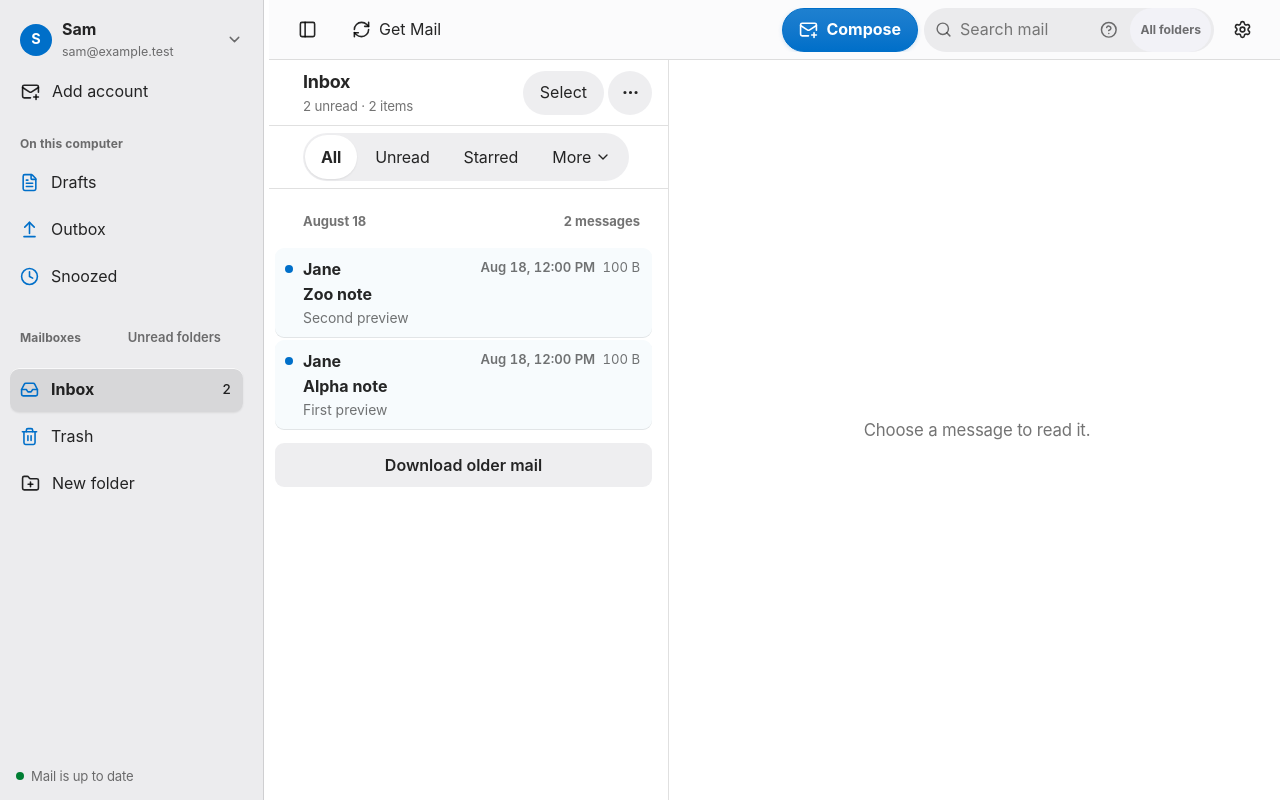
Test: mail shell › lists subjects from Z to A and can return to A to Z
Expected: the option "Jane Aug 18, 12:00 PM 100 B Alpha note First preview" is shown, [275,340,652,430]
What coordinates should you click on to do the following:
click the button named "More mailbox actions"
I would click on:
 (630, 93)
Its box is [608,71,652,115].
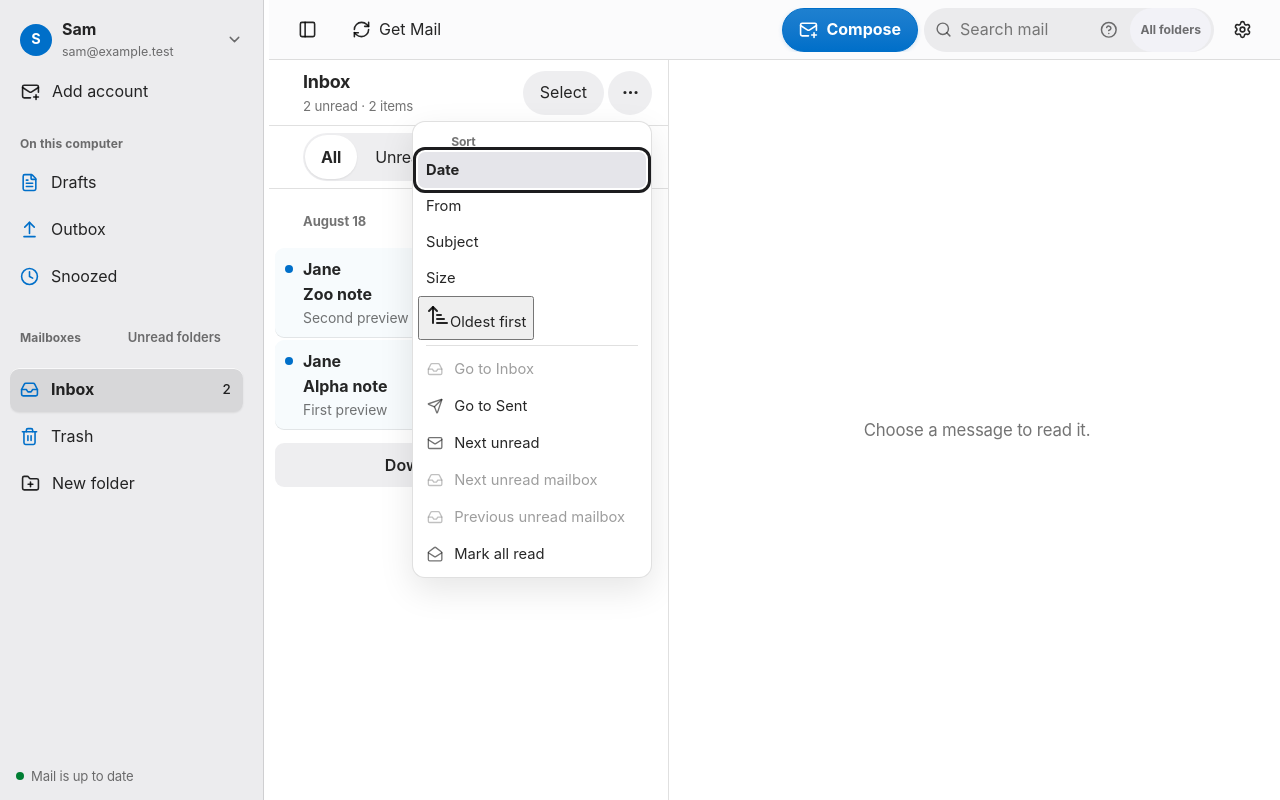
What coordinates should you click on to do the following:
click the menu item "Subject"
I would click on:
 (532, 242)
Its box is [418,224,646,260].
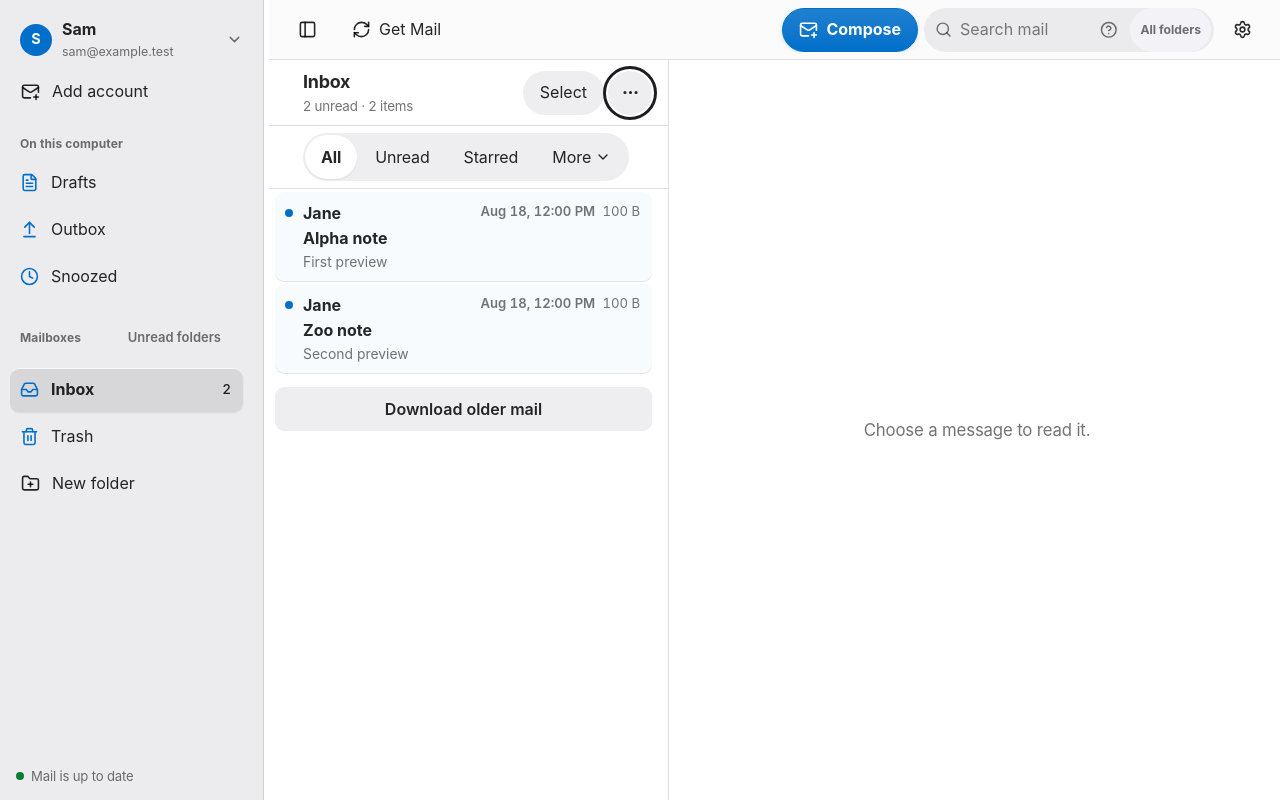
What coordinates should you click on to do the following:
click the button named "More mailbox actions"
I would click on:
 (630, 93)
Its box is [608,71,652,115].
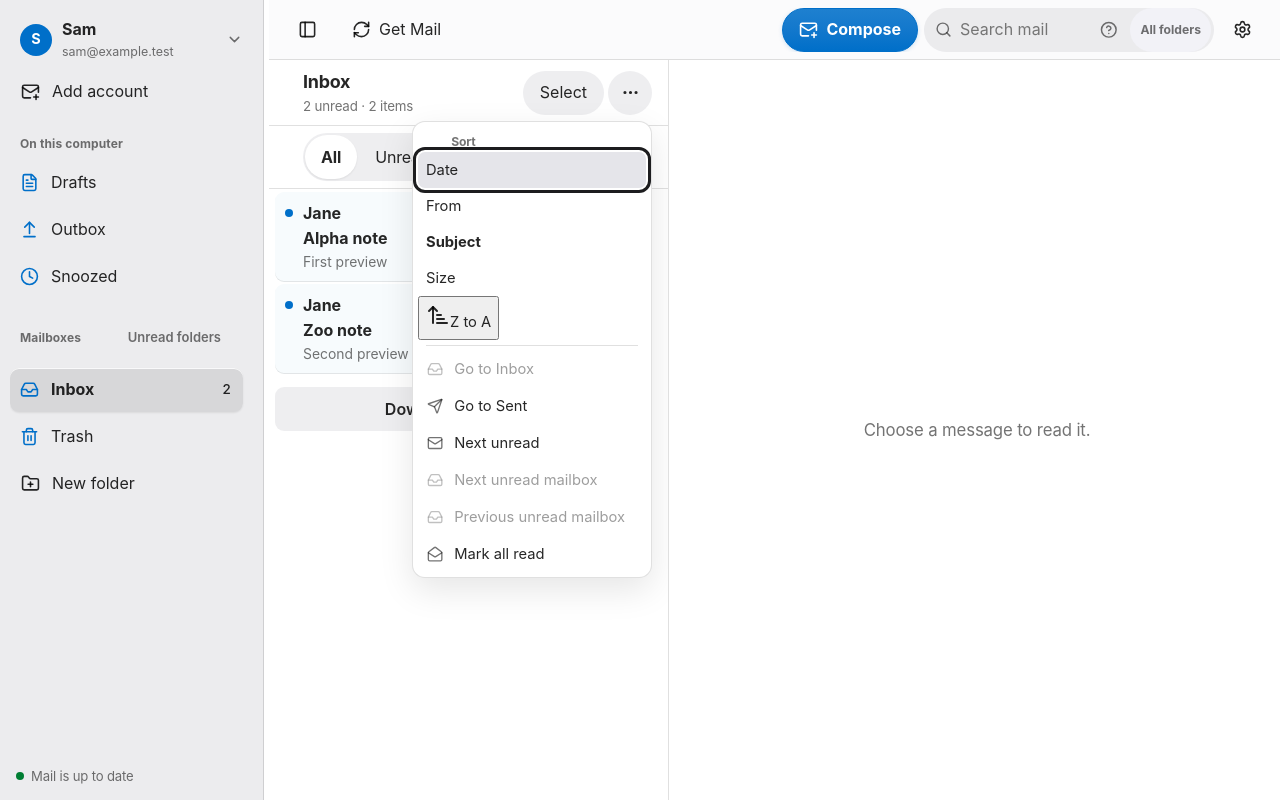
What coordinates should you click on to do the following:
click the menu item "Z to A"
I would click on:
 (459, 318)
Its box is [418,296,499,340].
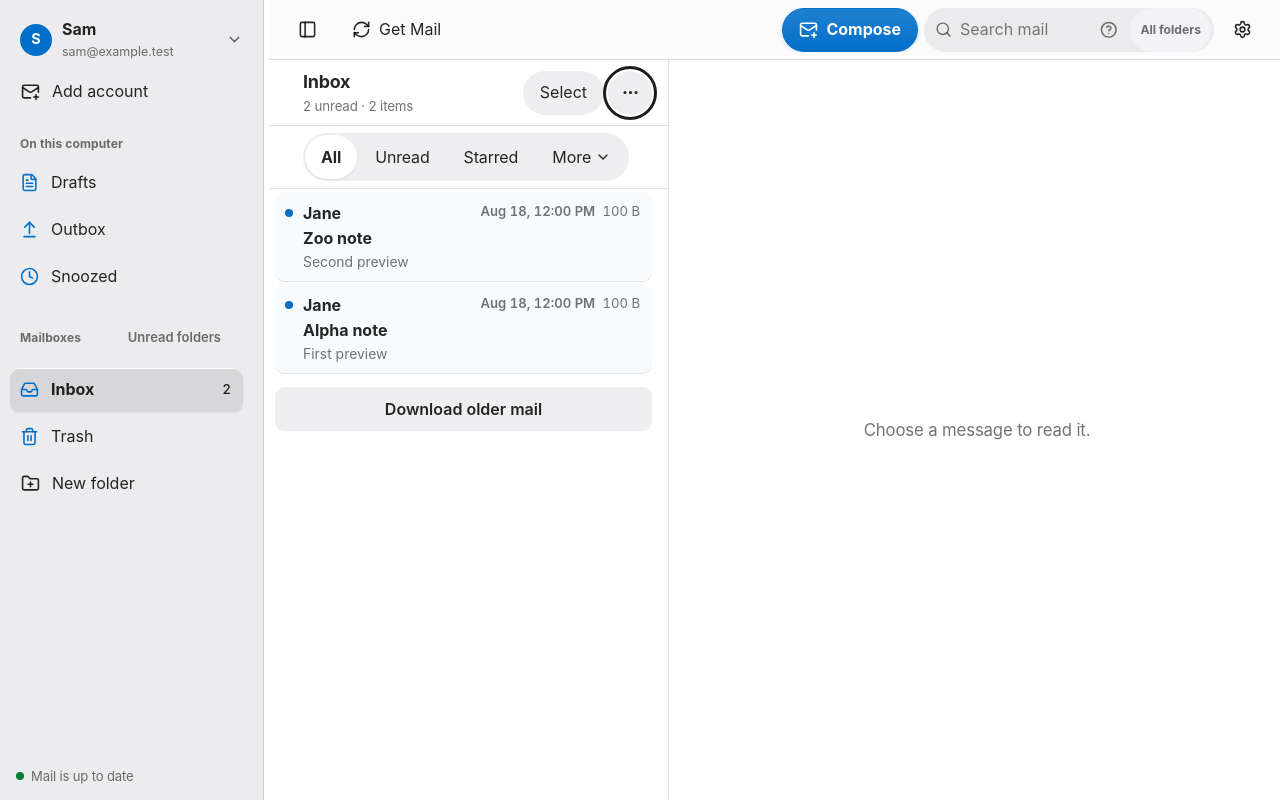
Expected: the option "Jane Aug 18, 12:00 PM 100 B Zoo note Second preview" is shown, [275,192,652,282]
Expected: the option "Jane Aug 18, 12:00 PM 100 B Alpha note First preview" is shown, [275,284,652,374]
What coordinates should you click on to do the following:
click the button named "More mailbox actions"
I would click on:
 (630, 93)
Its box is [608,71,652,115].
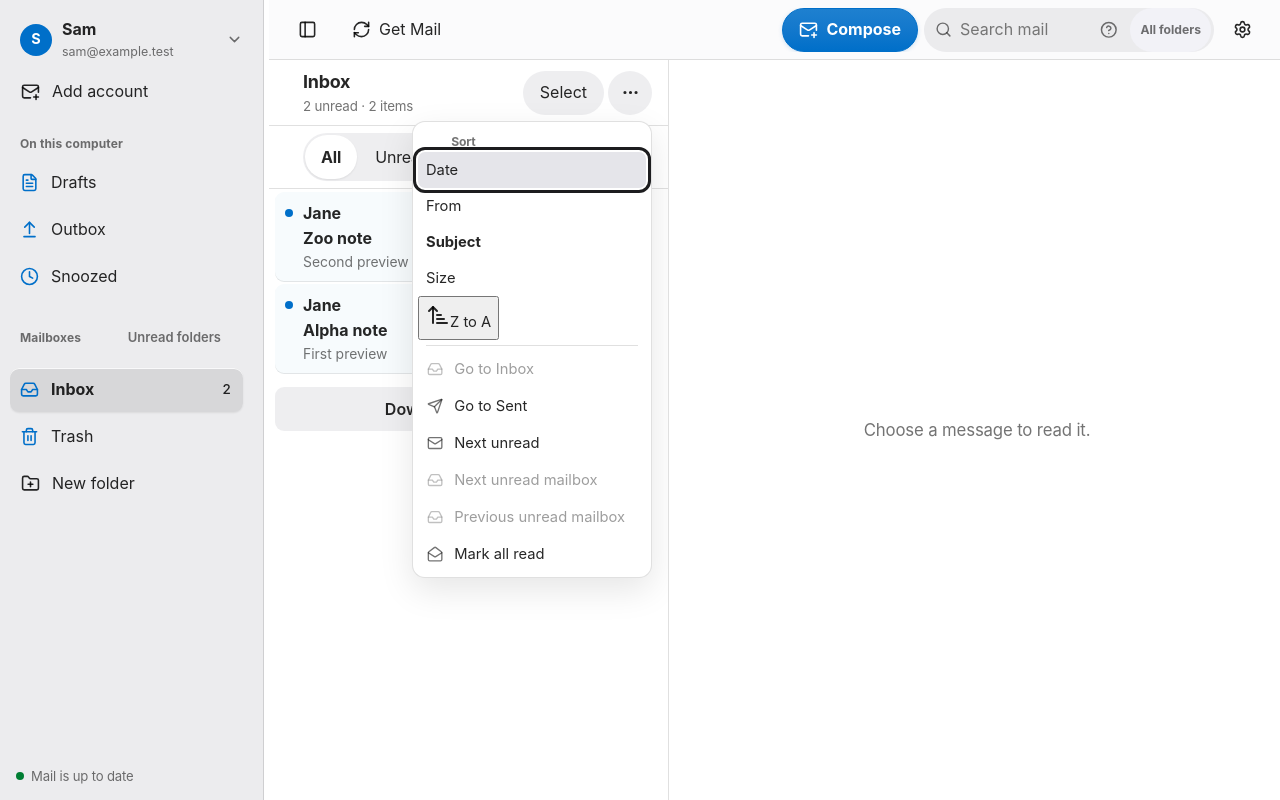
What coordinates should you click on to do the following:
click the menu item "Subject"
I would click on:
 (532, 242)
Its box is [418,224,646,260].
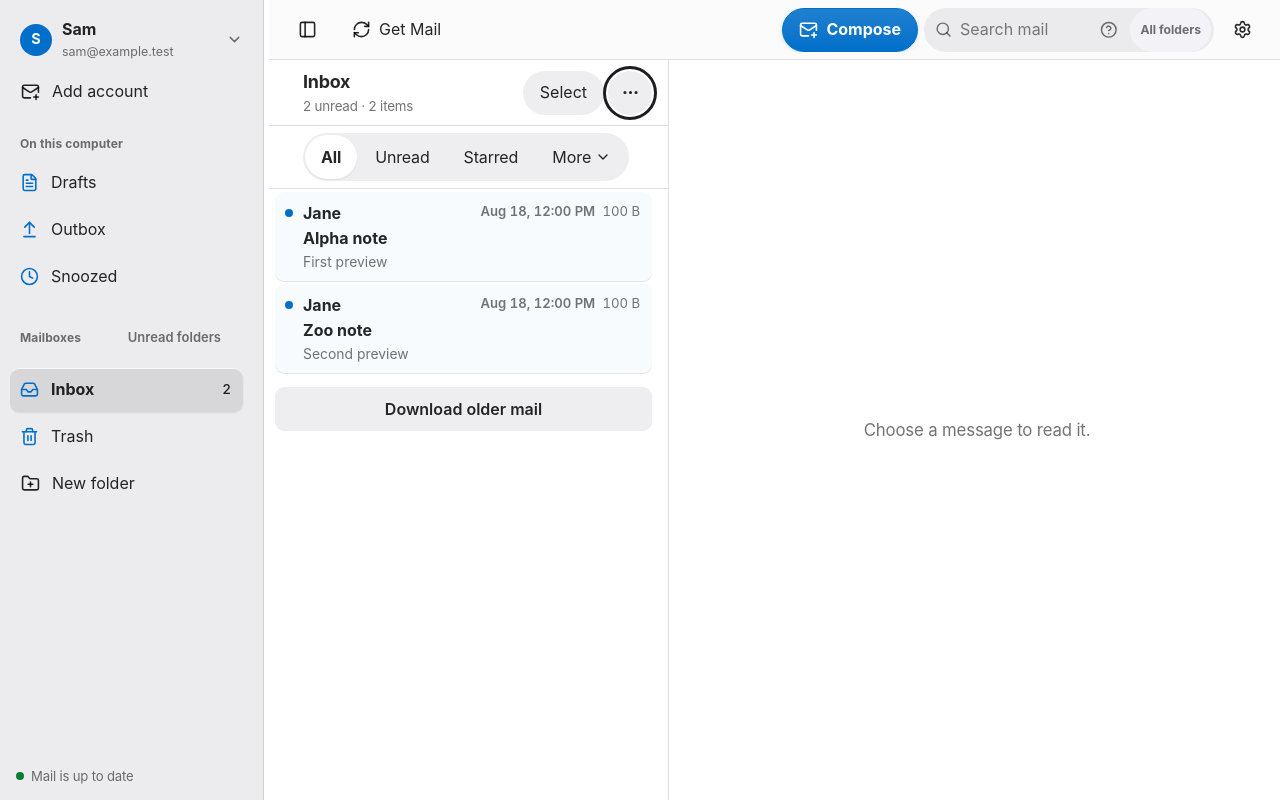
Expected: the option "Jane Aug 18, 12:00 PM 100 B Alpha note First preview" is shown, [275,192,652,282]
